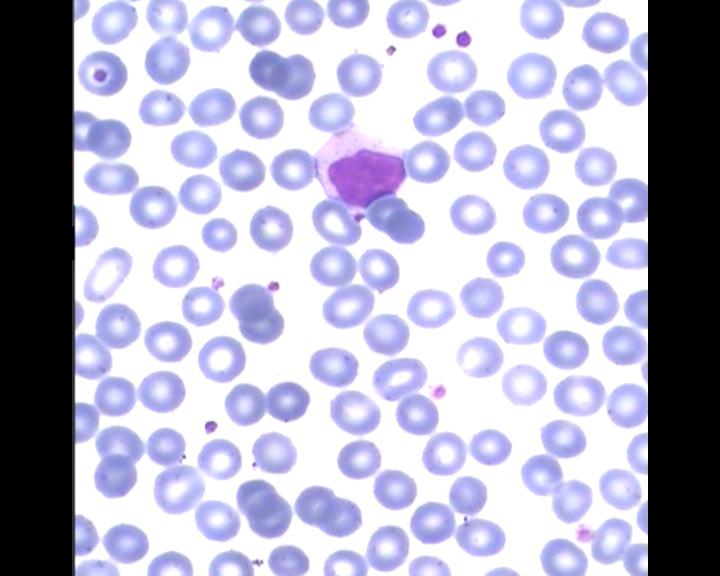mono: (315, 123, 415, 216)
